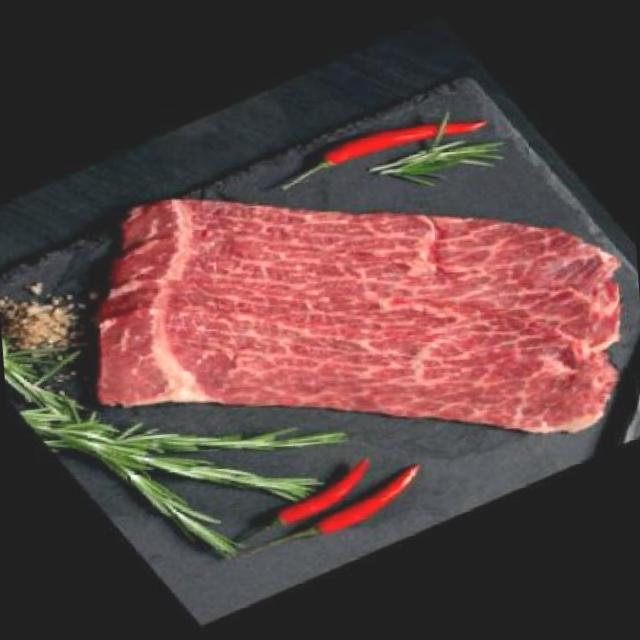beef: (51, 144, 640, 488)
